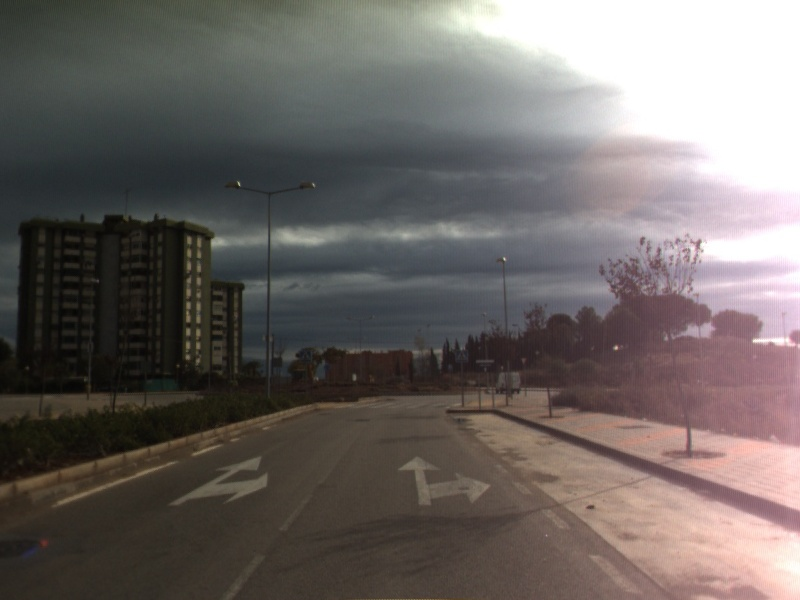STRAIGHT_RIGHT: (165, 454, 270, 508), (396, 454, 493, 507)
